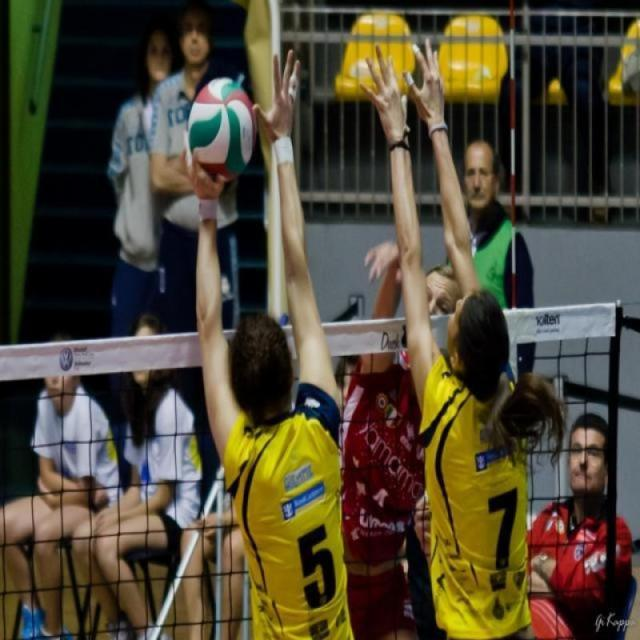volleyball: (186, 73, 258, 184)
